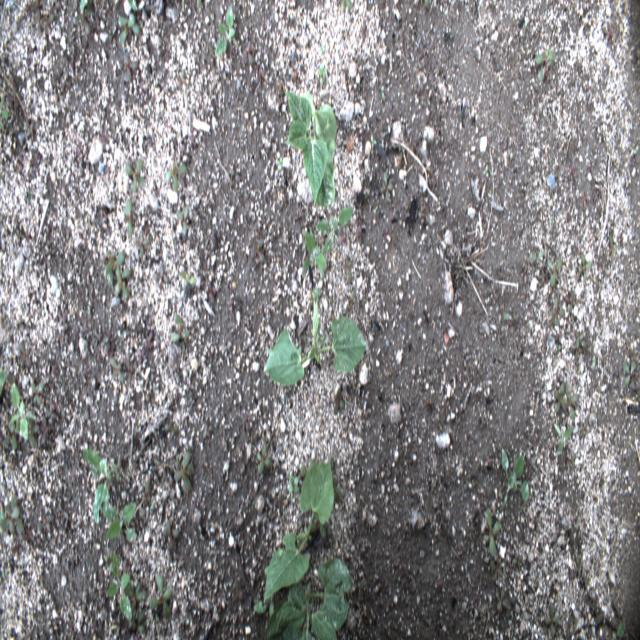crop: (263, 454, 335, 606), (262, 294, 367, 385), (263, 556, 351, 640), (282, 90, 338, 208)
weed: (83, 446, 120, 525), (498, 448, 530, 510), (314, 206, 354, 254), (107, 550, 132, 620), (9, 385, 36, 440), (101, 501, 137, 542), (301, 228, 328, 282), (214, 3, 236, 57), (150, 576, 173, 620), (484, 507, 501, 558), (1, 495, 22, 533), (103, 248, 125, 284), (174, 451, 193, 492), (124, 159, 145, 192), (119, 12, 140, 45), (534, 47, 554, 81), (166, 161, 187, 192), (171, 313, 191, 344), (553, 424, 573, 454), (256, 439, 273, 473), (114, 266, 131, 300), (163, 520, 179, 550), (577, 253, 592, 282), (176, 204, 189, 234), (548, 259, 562, 285), (564, 390, 577, 418), (136, 231, 148, 259), (181, 263, 196, 285), (622, 361, 636, 384), (555, 383, 566, 412), (124, 199, 132, 237), (288, 475, 298, 494)
